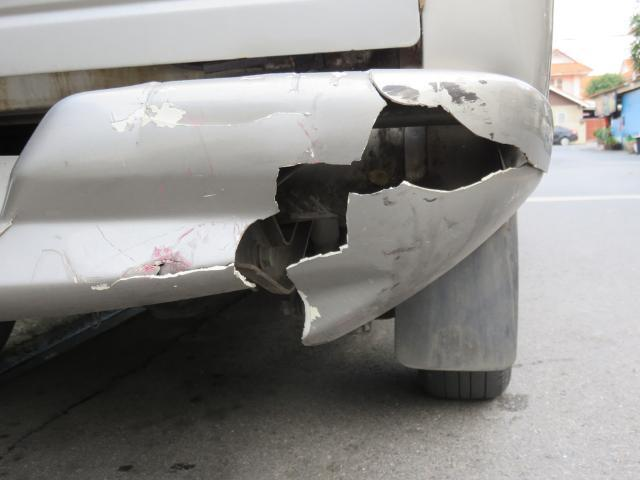crack: (110, 73, 547, 343)
scratch: (385, 76, 496, 140)
